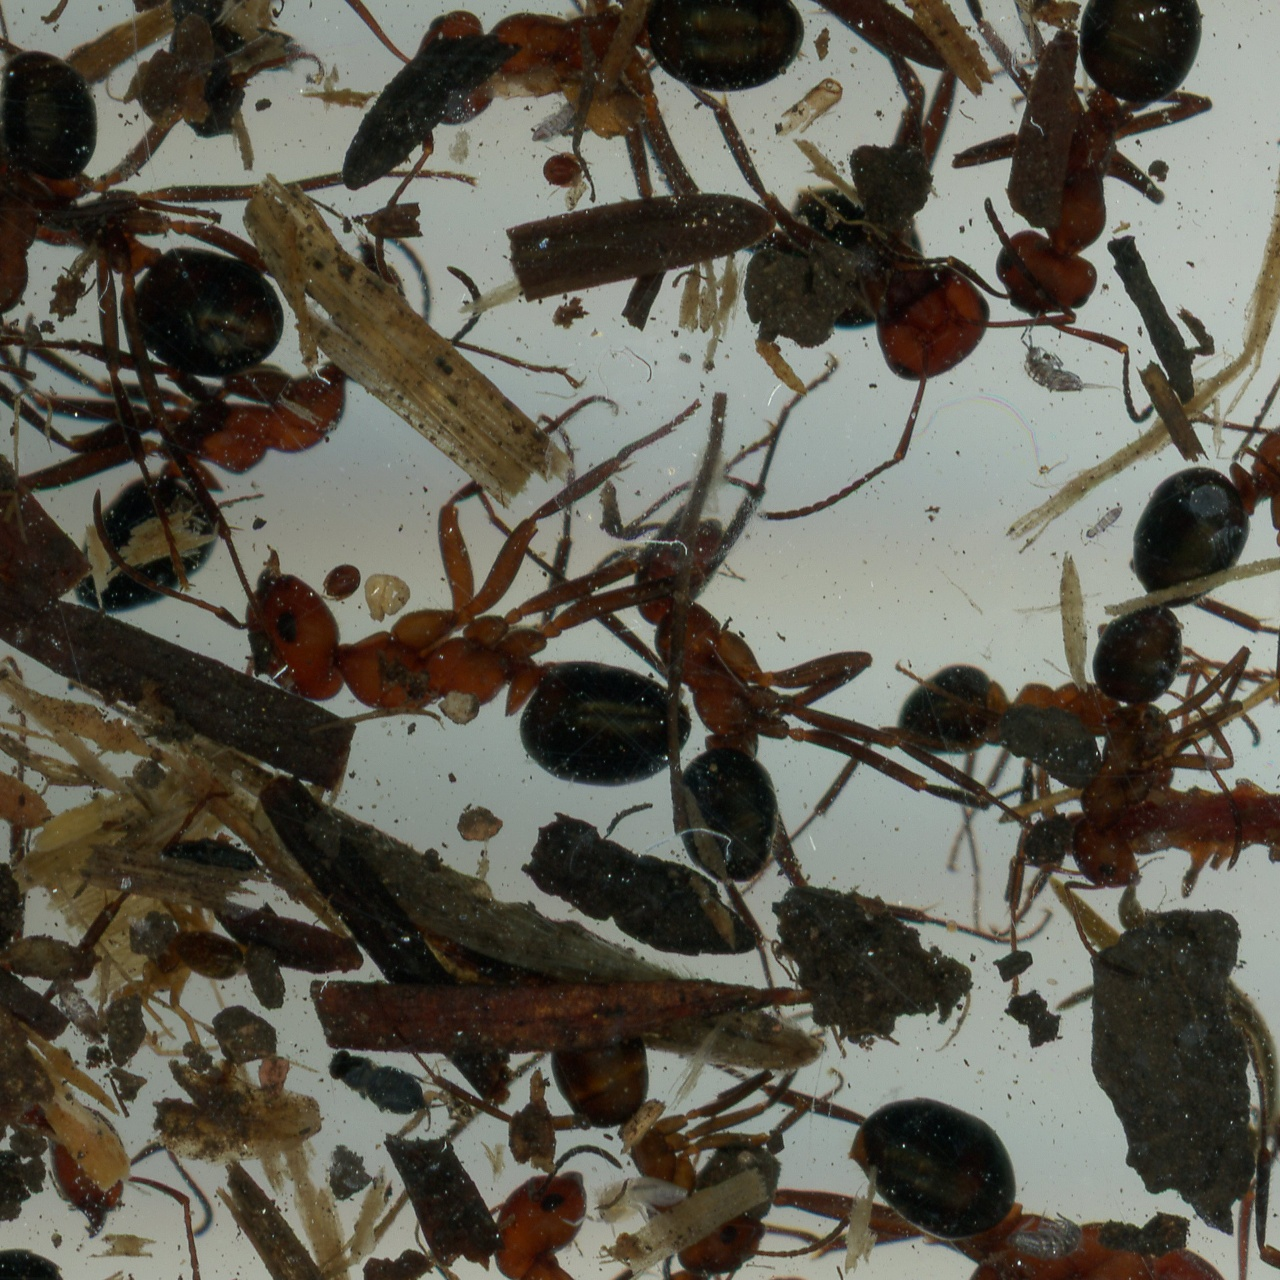arthropod: (79, 389, 702, 797), (697, 38, 1149, 522), (597, 488, 1047, 947), (563, 1015, 1280, 1280), (0, 0, 370, 462), (260, 0, 822, 290), (945, 0, 1216, 429), (455, 1039, 864, 1280), (0, 969, 301, 1280), (1053, 586, 1280, 976), (46, 355, 363, 619), (1114, 204, 1280, 703), (788, 659, 1210, 844), (421, 1129, 894, 1280), (0, 6, 124, 423), (0, 1182, 313, 1280), (568, 1149, 715, 1254), (318, 1044, 451, 1135), (1015, 318, 1131, 399), (46, 966, 117, 1057), (519, 89, 591, 158), (1006, 1208, 1085, 1262), (315, 553, 369, 612), (1073, 501, 1128, 550), (539, 152, 591, 191)
